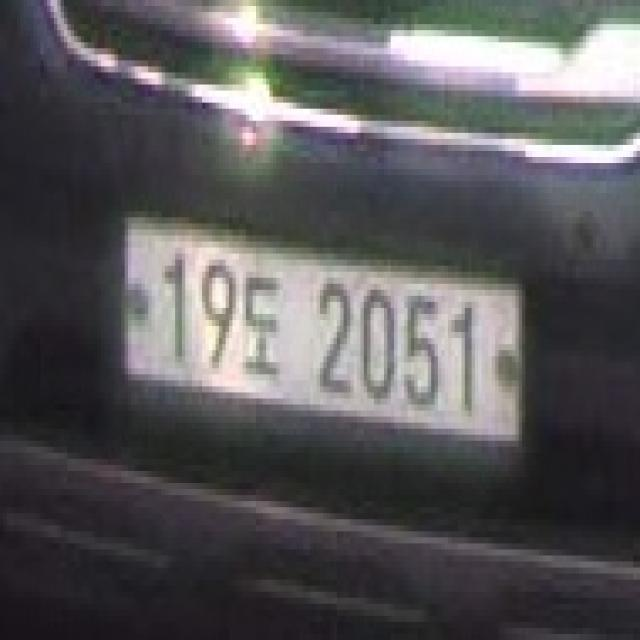plat: (116, 211, 529, 459)
